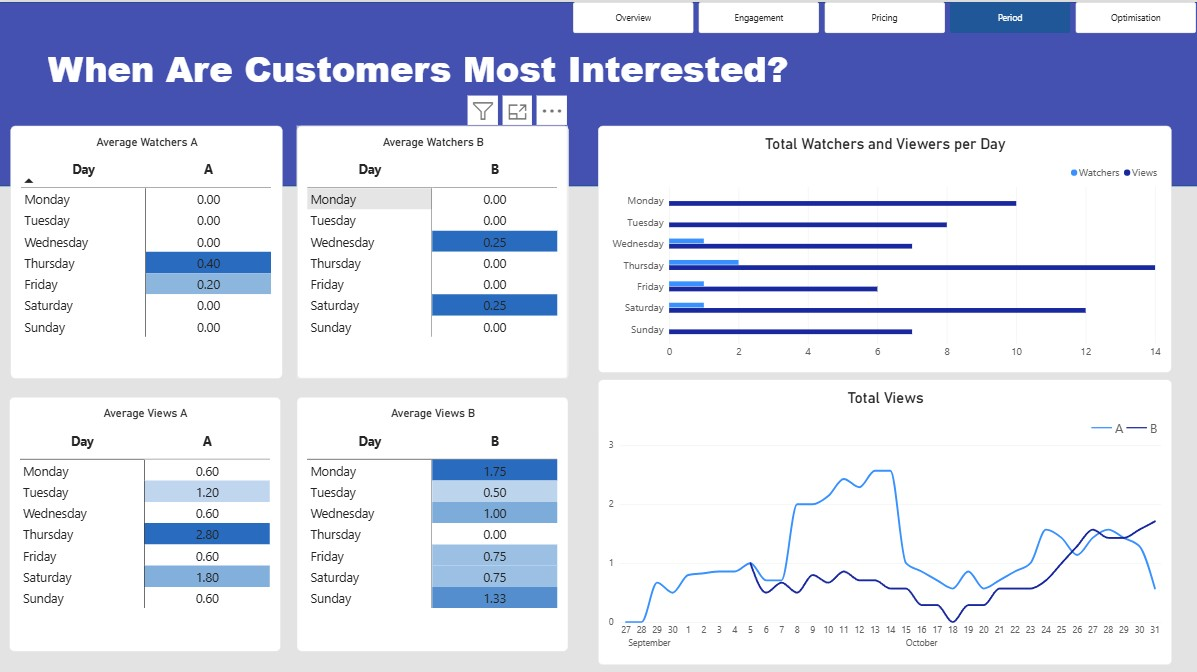

Layout of this report page (visuals, bound fields, positions):
{"tool":"powerbi","page":{"name":"Period","canvas":[1920,1080],"ordinal":3},"visuals":[{"type":"shape","box":[0,293.2,1920,786.8],"z":0},{"type":"shape","box":[0,0,1920,294.3],"z":1000},{"type":"pivotTable","title":"Average Views A","fields":{"Columns":["Query2.product"],"Rows":["Query2.day_of_week"],"Values":["Avg(Query2.views)"]},"box":[18.8,632.3,434.1,407],"z":2000},{"type":"pivotTable","title":"Average Watchers A","fields":{"Columns":["Query2.product"],"Rows":["Query2.day_of_week"],"Values":["Avg(Query2.watchers)"]},"box":[20,197.5,435,405],"z":3000},{"type":"lineChart","title":"Total Views","fields":{"Category":["Query3.date.Variation.Date Hierarchy.Month","Query3.date.Variation.Date Hierarchy.Day"],"Series":["Query3.product"],"Y":["Sum(Query3.views_7day_avg)"]},"box":[960,603.1,918.3,457],"z":4000},{"type":"textbox","box":[79.3,66.8,1598.6,87.7],"z":5000},{"type":"pivotTable","title":"Average Views B","fields":{"Columns":["Query2.product"],"Rows":["Query2.day_of_week"],"Values":["Avg(Query2.views)"]},"box":[477.9,632.3,434.1,407],"z":6000},{"type":"pivotTable","title":"Average Watchers B","fields":{"Columns":["Query2.product"],"Rows":["Query2.day_of_week"],"Values":["Avg(Query2.watchers)"]},"box":[477.5,197.5,435,405],"z":7000},{"type":"pageNavigator","box":[920,0,1000,50],"z":8000},{"type":"clusteredBarChart","title":"Total Watchers and Viewers per Day","fields":{"Category":["Query2.day_of_week"],"Y":["Sum(Query2.watchers)","Sum(Query2.views)"]},"box":[960,197.5,917.5,395],"z":9000}]}

Visuals, with their boxes in screenshot pixels (x1, y1, x2, y2), scaled from the page's 1920x1080 canvas onto the 1197x672 screenshot:
shape: rect(0, 182, 1196, 671)
shape: rect(0, 0, 1196, 183)
"Average Views A" pivotTable: rect(12, 393, 282, 647)
"Average Watchers A" pivotTable: rect(12, 123, 284, 375)
"Total Views" lineChart: rect(598, 375, 1171, 660)
textbox: rect(49, 42, 1046, 96)
"Average Views B" pivotTable: rect(298, 393, 569, 647)
"Average Watchers B" pivotTable: rect(298, 123, 569, 375)
pageNavigator: rect(574, 0, 1196, 31)
"Total Watchers and Viewers per Day" clusteredBarChart: rect(598, 123, 1171, 369)
